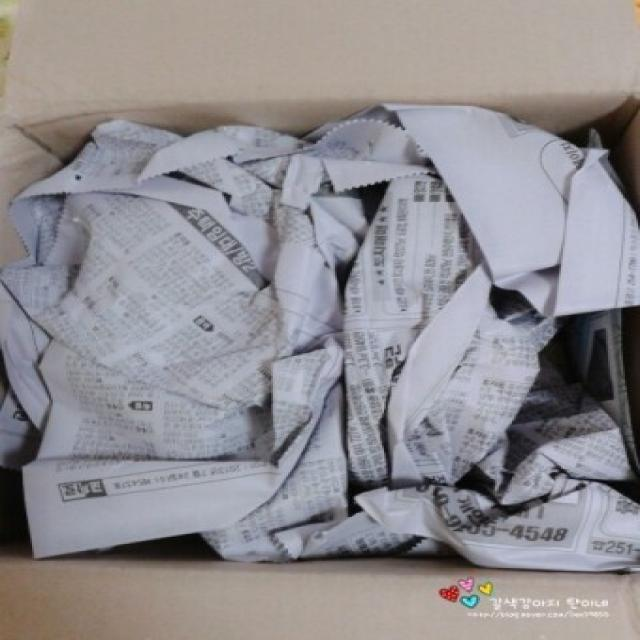Newspaper: (1, 107, 640, 576)
